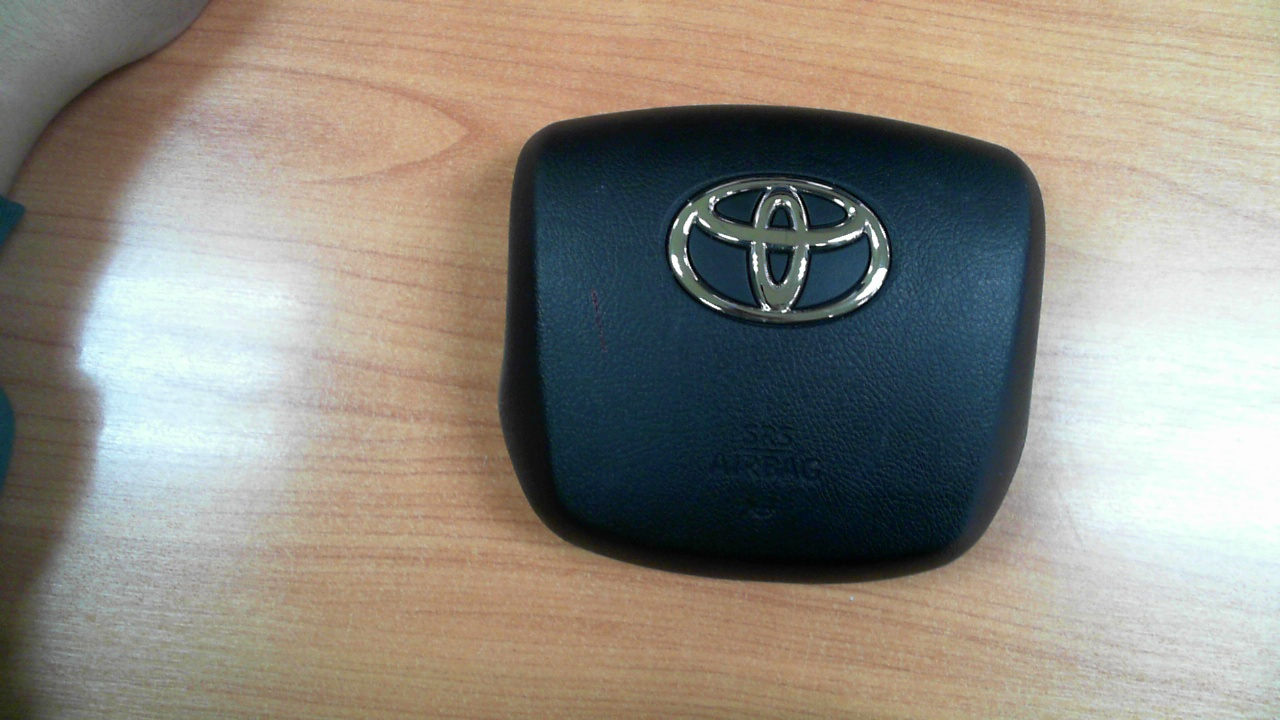Airbag: (500, 106, 1044, 584)
Toyota: (668, 176, 891, 324)
